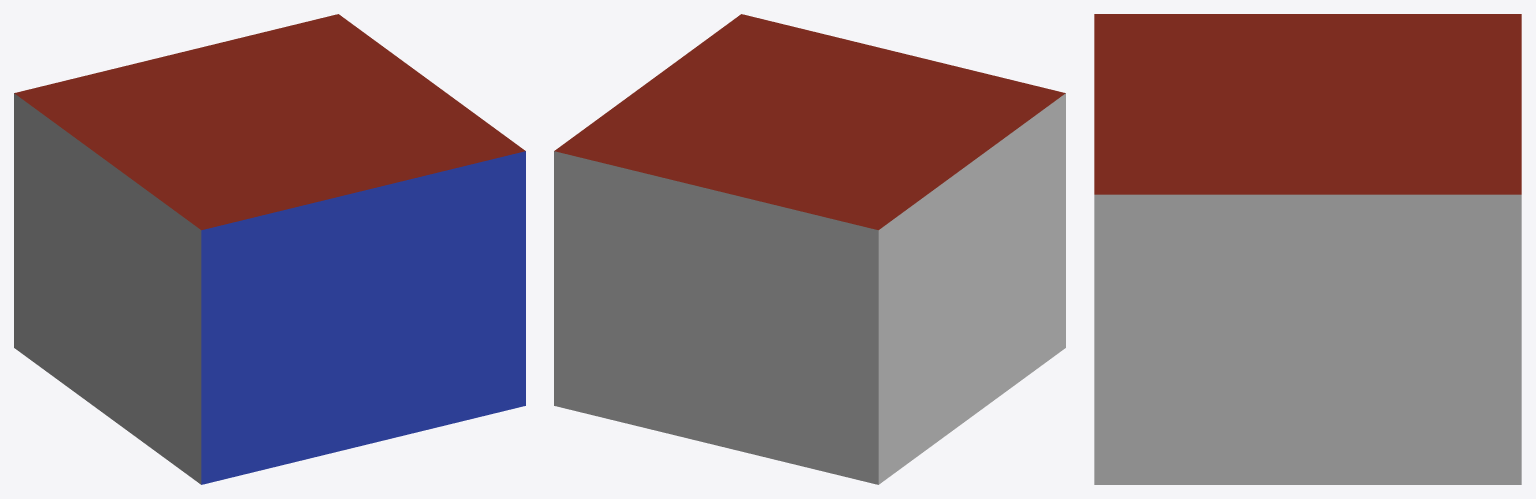
File: twoSided.glb
3 renders of one model, left to right at view 1: azimuth 30°, elevation 25°; view 2: azimuth 150°, elevation 25°; view 3: azimuth 270°, elevation 25°, orthographic. The views are drawn at different scales.
Parts seen in each view (by area): view 1: twoSided, lid; view 2: twoSided, lid; view 3: twoSided, lid.
Boxes of the visible parts, box(x1,y1,x2,y2) form: twoSided: box(14, 93, 525, 484); lid: box(14, 14, 525, 230); twoSided: box(554, 93, 1065, 484); lid: box(554, 14, 1065, 230); twoSided: box(1094, 194, 1521, 484); lid: box(1094, 14, 1521, 194).
Size of the model in its own units: 2 by 1.5 by 2.
